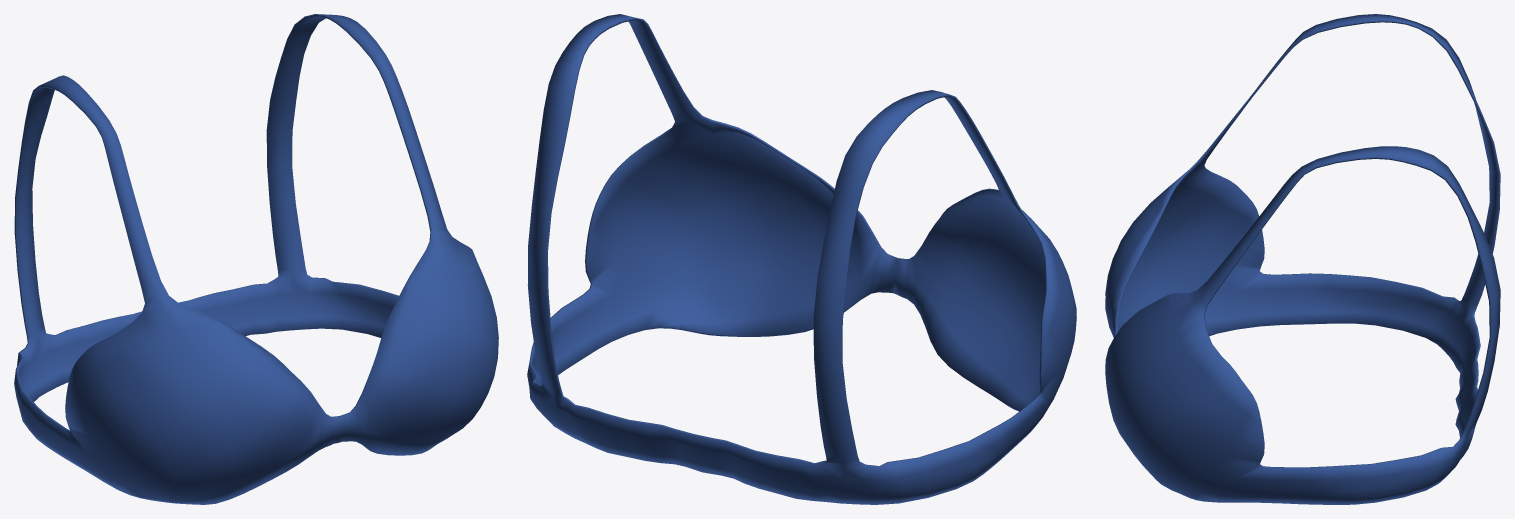
Rendered from Male_bra2.fbx.
The picture shows the model from 3 angles, left to right: view 1: azimuth 30°, elevation 25°; view 2: azimuth 150°, elevation 25°; view 3: azimuth 270°, elevation 25°; orthographic projection. The views are drawn at different scales.
Parts seen in each view (by area): view 1: Bra1; view 2: Bra1; view 3: Bra1.
Boxes of the visible parts, x1,y1,x2,y2 form: Bra1: (14, 14, 498, 504); Bra1: (527, 14, 1076, 504); Bra1: (1105, 14, 1500, 504).
Bounding box in the file's own units: 22.38 × 18.29 × 18.99.
